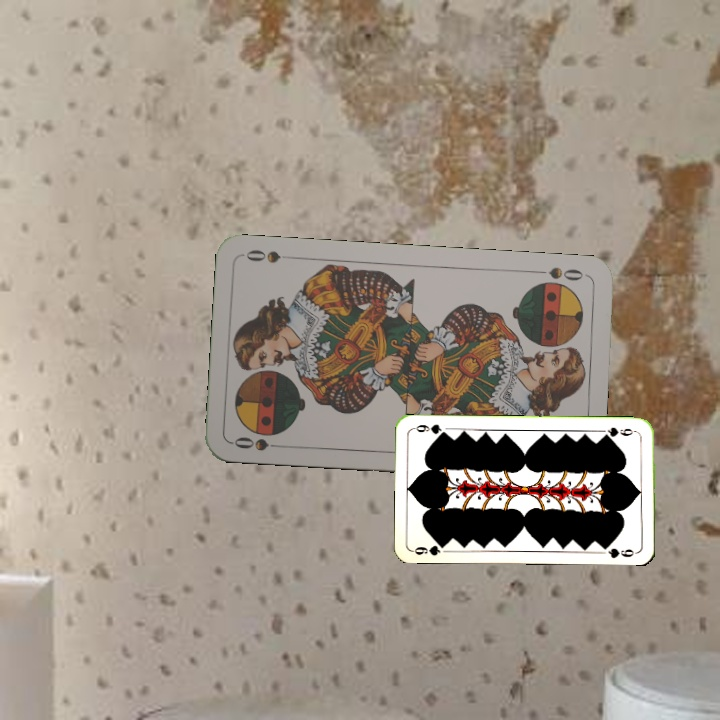G9: (409, 539, 449, 558), (599, 423, 639, 439)
SO: (229, 432, 288, 454), (530, 263, 589, 284)
